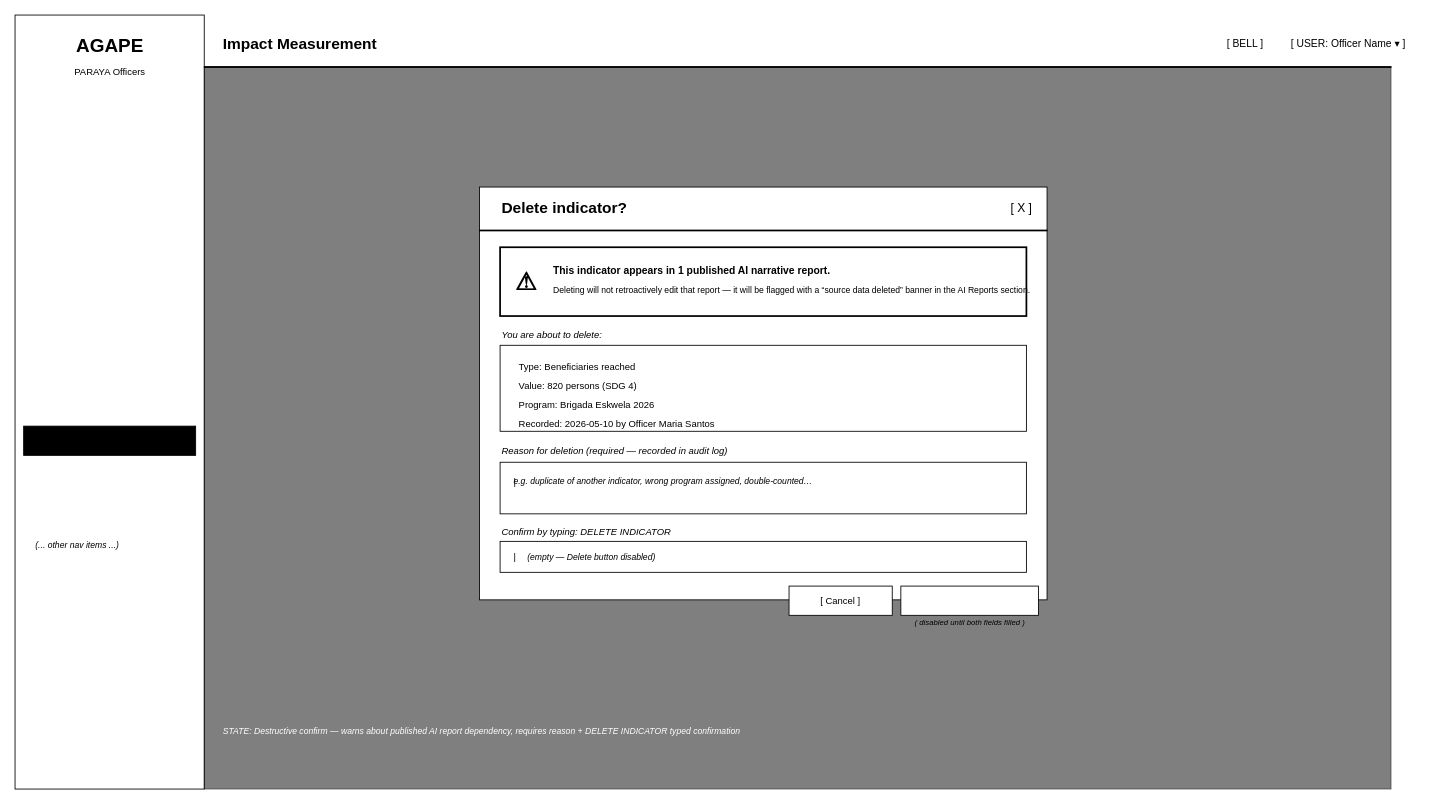
This 1441x804 diagram has some shape labels left out. Each missing label, with the box of its shape:
[ Delete indicator ]: (900, 585, 1038, 615)
[x] Impact: (23, 425, 196, 455)
